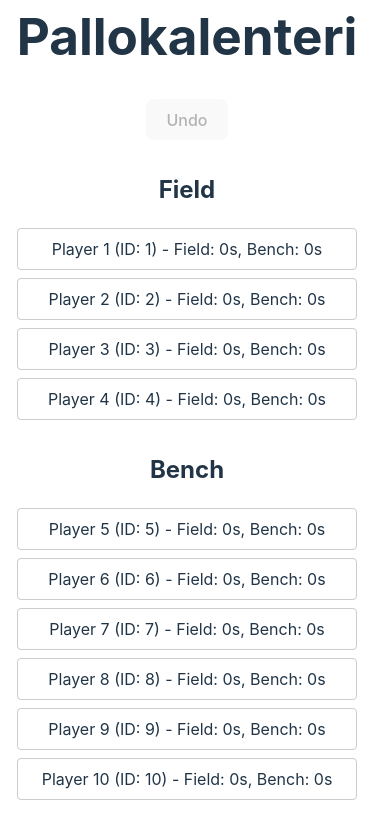
Test: undo button reverts player movement
Expected: the button with test id "undo-button" is disabled, left=146, top=99, right=228, bottom=140
Click the text with test id "field-player-1": (187, 249) left=17, top=228, right=357, bottom=270
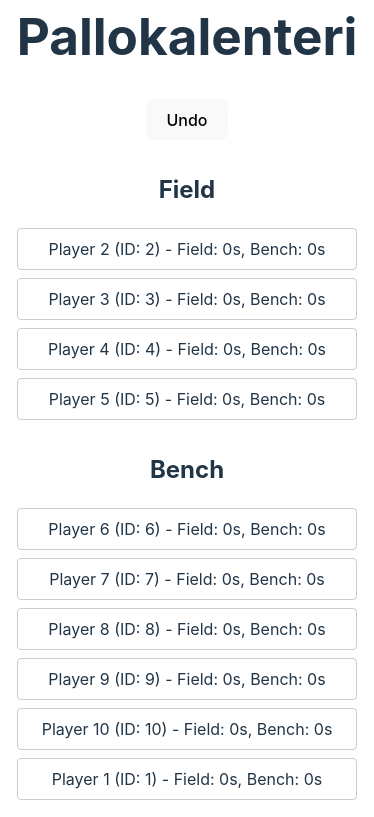
Expected: the button with test id "undo-button" is enabled
Click the button with test id "undo-button": (187, 120) left=146, top=99, right=228, bottom=140
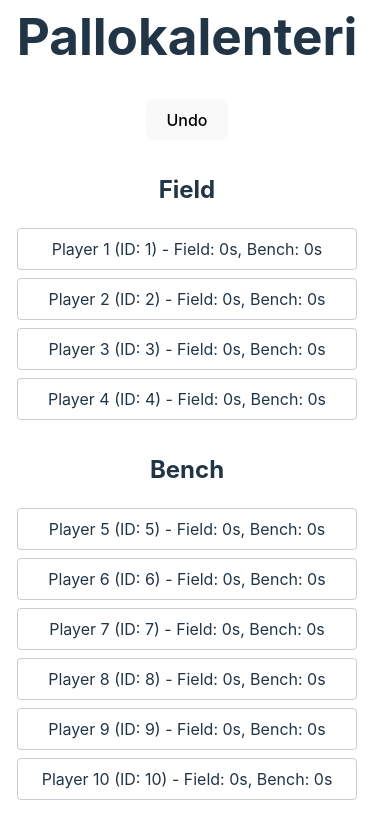
Expected: the text "Player 1 (ID: 1) - Field: 0s, Bench: 0s" is shown, left=17, top=228, right=357, bottom=270
